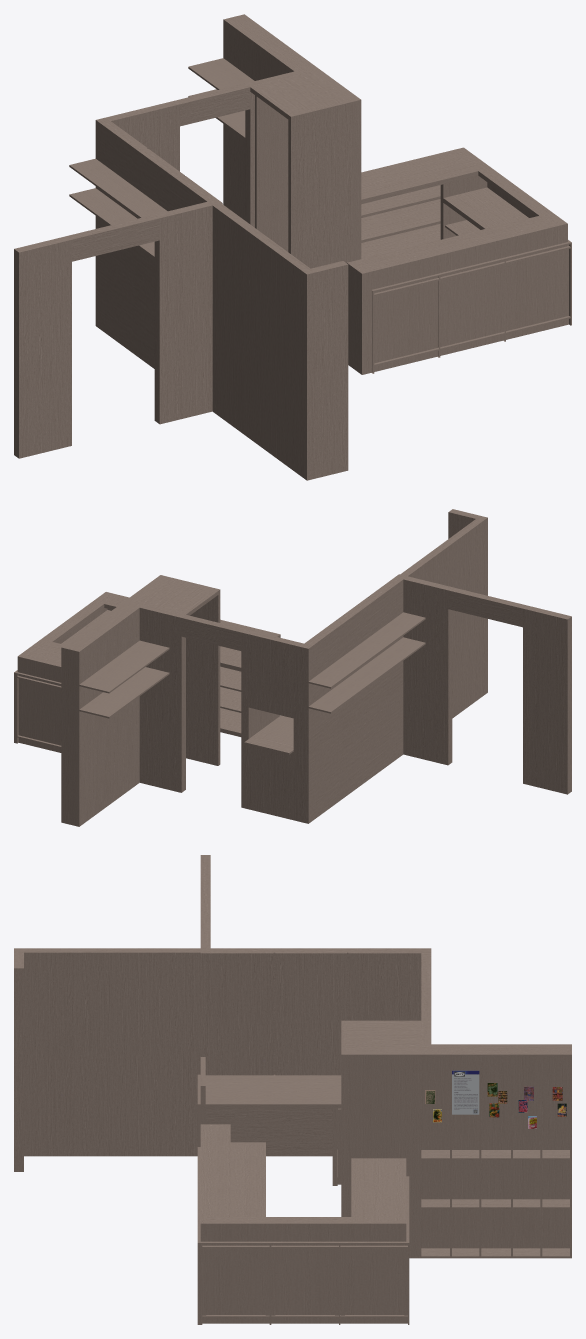
The model's file is heyGraden.glb.
3 renders of one model, top to bottom at view 1: azimuth 30°, elevation 25°; view 2: azimuth 150°, elevation 25°; view 3: azimuth 270°, elevation 25°, orthographic. The views are drawn at different scales.
Parts seen in each view (by area): view 1: Rectangle5681, Object409, Object411, Rectangle5695, Rectangle080, Object410, Rectangle6069; view 2: Rectangle5681, Rectangle5695, Object409, Rectangle080, Rectangle6069, Rectangle5693, Object410; view 3: Rectangle5681, Rectangle5695, Object409, Object411, Object410, Rectangle5693, panner.
Boxes of the visible parts, x1,y1,x2,y2 form: Rectangle5681: [14, 71, 352, 480]; Object409: [347, 147, 567, 374]; Object411: [255, 70, 361, 260]; Rectangle5695: [223, 14, 319, 220]; Rectangle080: [69, 158, 167, 258]; Object410: [371, 240, 571, 373]; Rectangle6069: [188, 58, 254, 139]; Rectangle5681: [134, 509, 571, 823]; Rectangle5695: [61, 600, 143, 826]; Object409: [17, 592, 280, 752]; Rectangle080: [308, 612, 425, 713]; Rectangle6069: [79, 640, 169, 718]; Rectangle5693: [253, 715, 293, 745]; Object410: [14, 670, 61, 747]; Rectangle5681: [14, 855, 431, 1171]; Rectangle5695: [421, 1044, 571, 1258]; Object409: [200, 1124, 406, 1323]; Object411: [341, 1050, 421, 1258]; Object410: [197, 1147, 409, 1324]; Rectangle5693: [200, 1057, 341, 1185]; panner: [452, 1070, 479, 1114].
Size of what is drawn, in the model's own units: 6.27 by 2.24 by 5.56.
12 materials, 12 textured.
